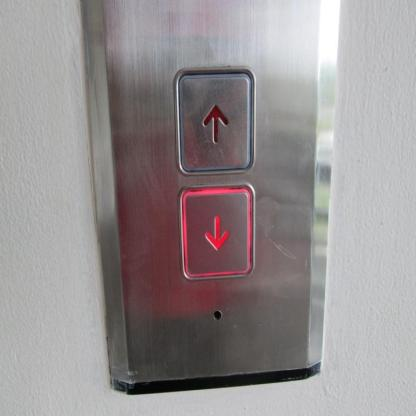down: (178, 181, 255, 280)
up: (173, 67, 256, 175)
